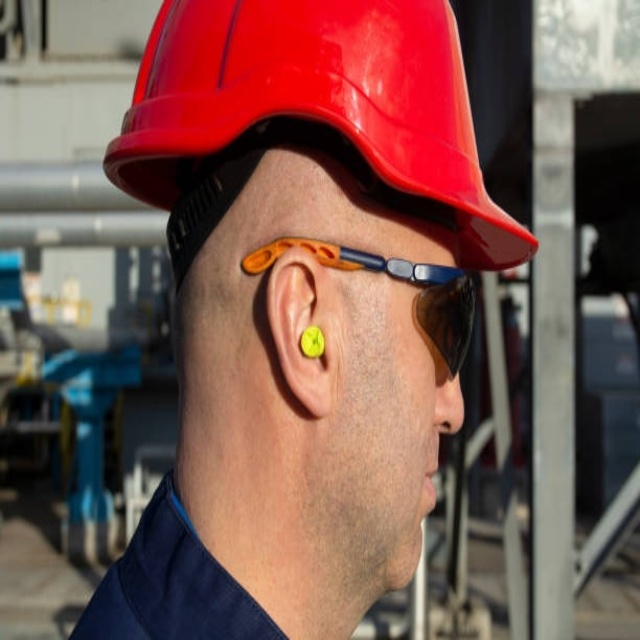Gafas: (241, 234, 478, 391)
Sin_mascara: (363, 425, 459, 585)
